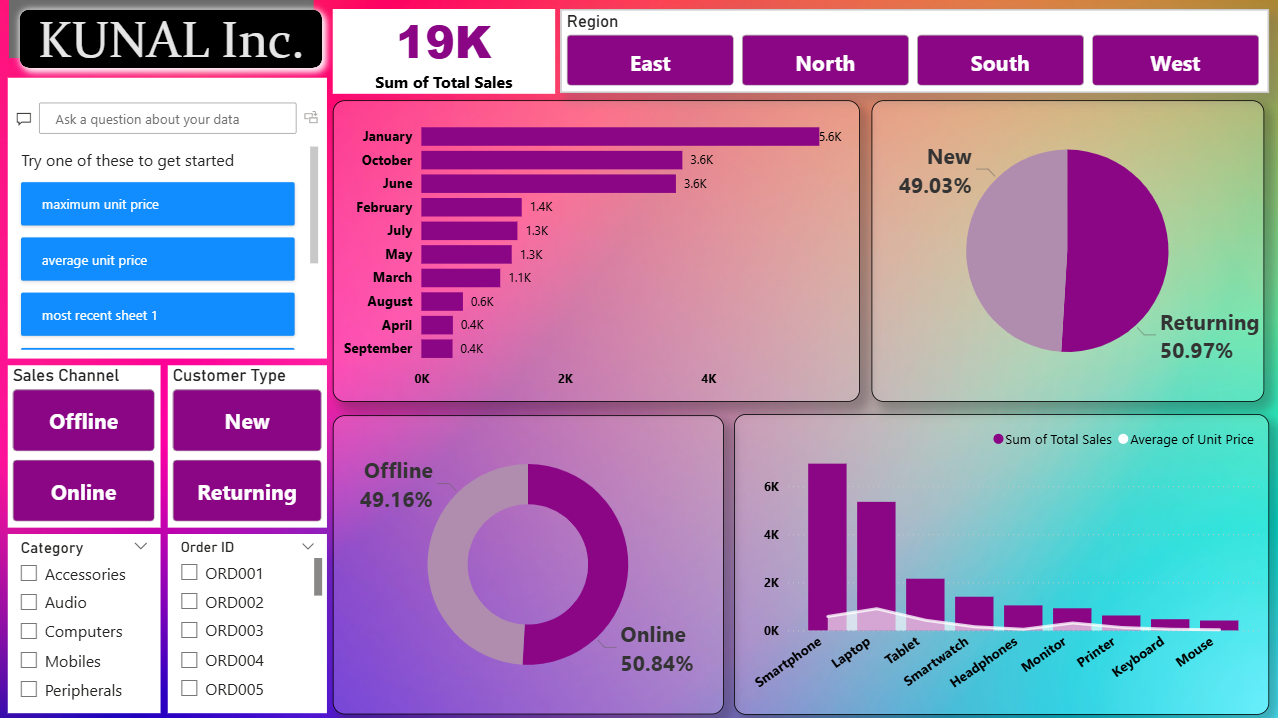

Layout of this report page (visuals, bound fields, positions):
{"tool":"powerbi","page":{"name":"Page 4","canvas":[1280,720],"ordinal":3},"visuals":[{"type":"shape","box":[9.6,0,304.6,59],"z":0},{"type":"shape","box":[9.6,0,323.8,79.6],"z":1000},{"type":"card","fields":{"Values":["Sum(Sheet1.Total Sales)","select"]},"box":[333.5,9.7,222.4,84.7],"z":2000},{"type":"qnaVisual","box":[9.2,79.2,319.2,280.8],"z":3000},{"type":"advancedSlicerVisual","fields":{"Values":["Sheet1.Region"]},"box":[561.4,10,708.6,84.3],"z":4000},{"type":"slicer","fields":{"Values":["Sheet1.Category"]},"box":[9.2,535,152.5,179.2],"z":5000},{"type":"advancedSlicerVisual","fields":{"Values":["Sheet1.Sales Channel"]},"box":[9.2,366.7,152.5,162.5],"z":6000},{"type":"advancedSlicerVisual","fields":{"Values":["Sheet1.Customer Type"]},"box":[169.2,366.7,159.2,162.5],"z":7000},{"type":"slicer","fields":{"Values":["Sheet1.Order ID"]},"box":[169.2,535,159.2,179.2],"z":8000},{"type":"clusteredBarChart","fields":{"Y":["Sum(Sheet1.Total Sales)"],"Category":["Sheet1.Month"]},"box":[333.4,101.5,526.9,301.9],"z":9000},{"type":"lineStackedColumnComboChart","fields":{"Category":["Sheet1.Product"],"Y2":["Avg(Sheet1.Unit Price)"],"Y":["Sum(Sheet1.Total Sales)"]},"box":[735.5,414.4,535.2,300.5],"z":10000},{"type":"pieChart","fields":{"Category":["Sheet1.Customer Type"],"Y":["Sum(Sheet1.Total Sales)"]},"box":[872.7,101.5,392.5,301.9],"z":11000},{"type":"donutChart","fields":{"Category":["Sheet1.Sales Channel"],"Y":["Sum(Sheet1.Total Sales)"]},"box":[333.4,415.8,391.1,299.1],"z":12000}]}

Visuals, with their boxes in screenshot pixels (x1, y1, x2, y2), scaled from the page's 1280x720 canvas onto the 1278x718 screenshot:
shape: pyautogui.locateOnScreen(10, 0, 314, 59)
shape: pyautogui.locateOnScreen(10, 0, 333, 79)
card - Sum(Sheet1.Total Sales) x select: pyautogui.locateOnScreen(333, 10, 555, 94)
qnaVisual: pyautogui.locateOnScreen(9, 79, 328, 359)
advancedSlicerVisual - Sheet1.Region: pyautogui.locateOnScreen(561, 10, 1268, 94)
slicer - Sheet1.Category: pyautogui.locateOnScreen(9, 534, 161, 712)
advancedSlicerVisual - Sheet1.Sales Channel: pyautogui.locateOnScreen(9, 366, 161, 528)
advancedSlicerVisual - Sheet1.Customer Type: pyautogui.locateOnScreen(169, 366, 328, 528)
slicer - Sheet1.Order ID: pyautogui.locateOnScreen(169, 534, 328, 712)
clusteredBarChart - Sum(Sheet1.Total Sales) x Sheet1.Month: pyautogui.locateOnScreen(333, 101, 859, 402)
lineStackedColumnComboChart - Sheet1.Product x Avg(Sheet1.Unit Price): pyautogui.locateOnScreen(734, 413, 1269, 713)
pieChart - Sheet1.Customer Type x Sum(Sheet1.Total Sales): pyautogui.locateOnScreen(871, 101, 1263, 402)
donutChart - Sheet1.Sales Channel x Sum(Sheet1.Total Sales): pyautogui.locateOnScreen(333, 415, 723, 713)
